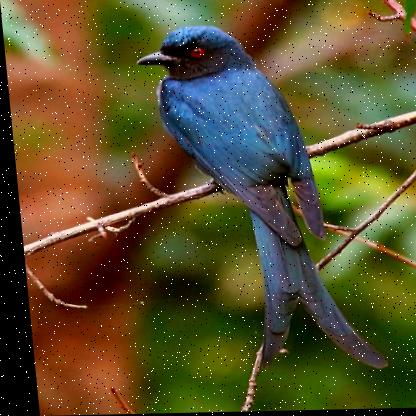Burung: (129, 25, 394, 374)
